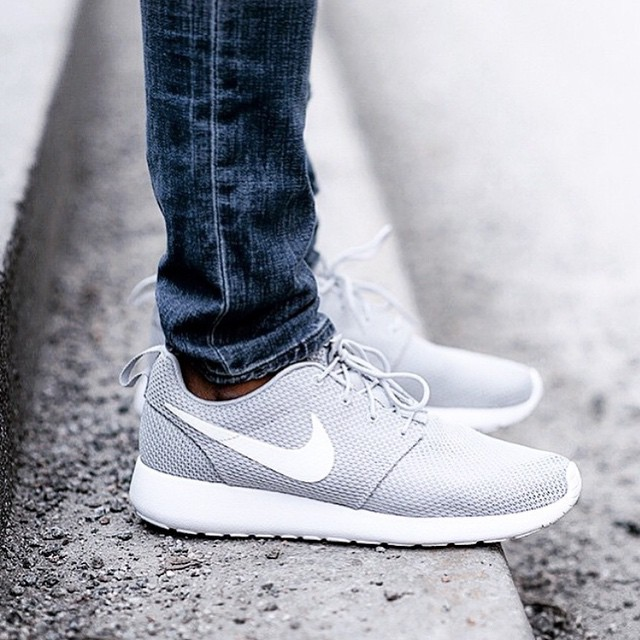sneaker: (84, 312, 609, 569), (276, 245, 564, 448)
